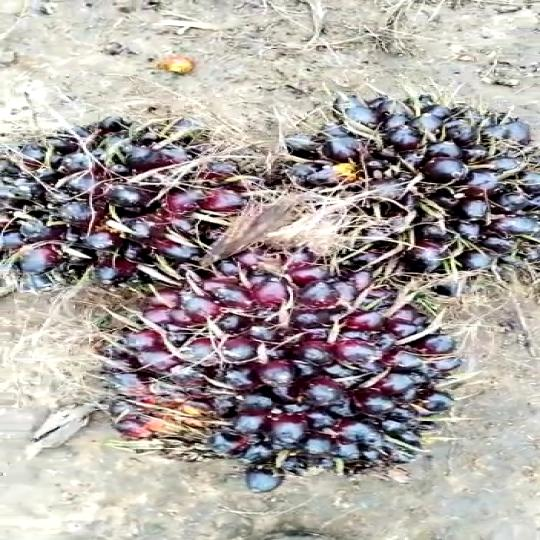mentah: (105, 249, 467, 486), (283, 81, 540, 290), (0, 102, 265, 290)
